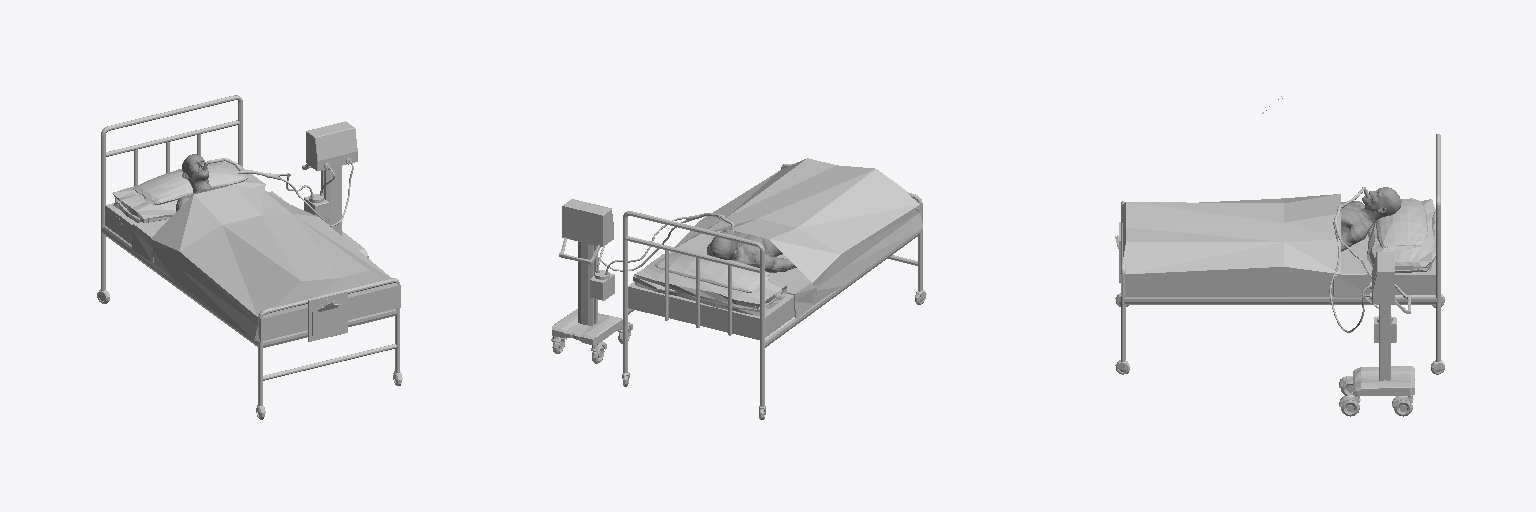
File: rudds_tokken02_01f3v5_FIX.obj
3 renders of one model, left to right at view 1: azimuth 30°, elevation 25°; view 2: azimuth 150°, elevation 25°; view 3: azimuth 270°, elevation 25°, orthographic.
Visible parts, largest first — view 1: Hospital_bed__Hospital_bed_Carpet_metal, hontai__Plane, stand_Plane.001, Mesh.157_l-hip-upper-abdomen_b; view 2: Hospital_bed__Hospital_bed_Carpet_metal, hontai__Plane, Mesh.157_l-hip-upper-abdomen_b, daiza_Plane.004, stand_Plane.001, asi_Plane.005; view 3: Hospital_bed__Hospital_bed_Carpet_metal, Mesh.157_l-hip-upper-abdomen_b, daiza_Plane.004, hontai__Plane, asi_Plane.005, stand_Plane.001.
Boxes of the visible parts, x1,y1,x2,y2 form: Hospital_bed__Hospital_bed_Carpet_metal: [97, 95, 402, 419]; hontai__Plane: [306, 121, 357, 170]; stand_Plane.001: [321, 166, 341, 235]; Mesh.157_l-hip-upper-abdomen_b: [105, 154, 230, 224]; Hospital_bed__Hospital_bed_Carpet_metal: [622, 158, 926, 419]; hontai__Plane: [562, 199, 613, 246]; Mesh.157_l-hip-upper-abdomen_b: [707, 206, 920, 272]; daiza_Plane.004: [552, 309, 622, 344]; stand_Plane.001: [578, 242, 597, 325]; asi_Plane.005: [551, 322, 632, 363]; Hospital_bed__Hospital_bed_Carpet_metal: [1115, 134, 1444, 374]; Mesh.157_l-hip-upper-abdomen_b: [1262, 96, 1401, 251]; daiza_Plane.004: [1353, 366, 1414, 395]; hontai__Plane: [1372, 252, 1394, 303]; asi_Plane.005: [1339, 376, 1413, 416]; stand_Plane.001: [1379, 304, 1390, 380].
Bounding box in the file's own units: 22.15 × 12.44 × 21.01.